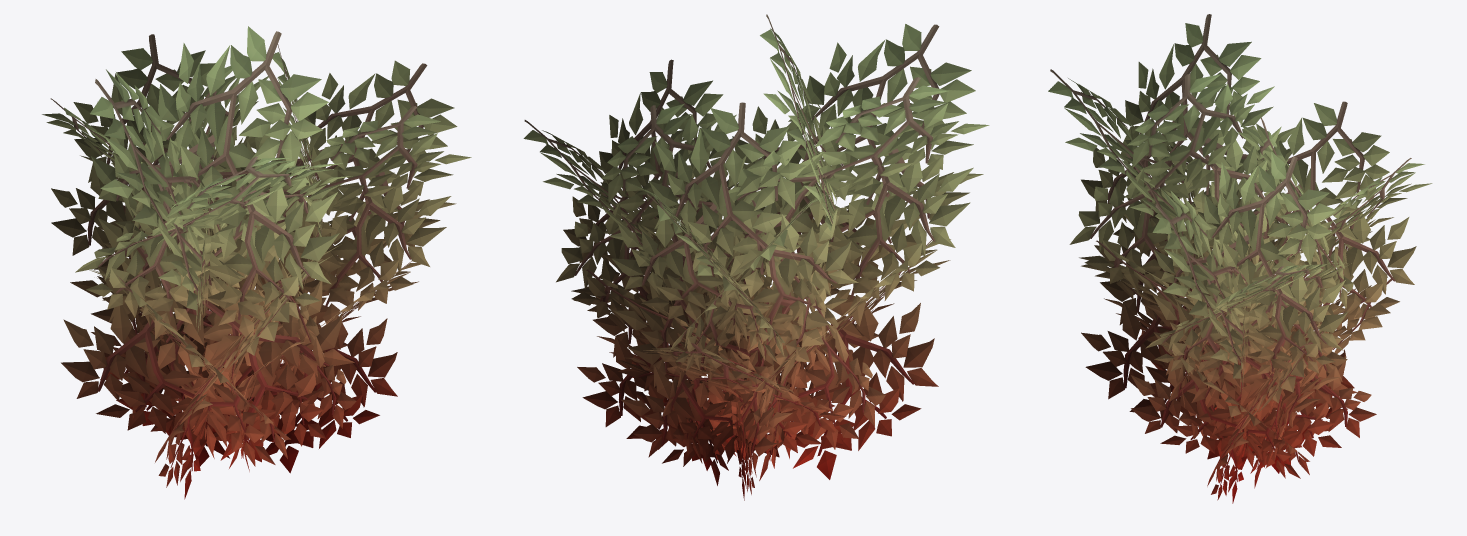
3 renders of one model, left to right at view 1: azimuth 30°, elevation 25°; view 2: azimuth 150°, elevation 25°; view 3: azimuth 270°, elevation 25°, orthographic. The views are drawn at different scales.
Parts seen in each view (by area): view 1: SM_Plant_Bush_Leaves_01; view 2: SM_Plant_Bush_Leaves_01; view 3: SM_Plant_Bush_Leaves_01.
Part boxes in pixels (<box>): SM_Plant_Bush_Leaves_01: <box>42,26,471,499</box>; SM_Plant_Bush_Leaves_01: <box>523,14,989,500</box>; SM_Plant_Bush_Leaves_01: <box>1048,14,1432,503</box>.
Size of the model in its own units: 1.15 by 1.17 by 1.02.
Materials: 1 (1 with a texture image).
